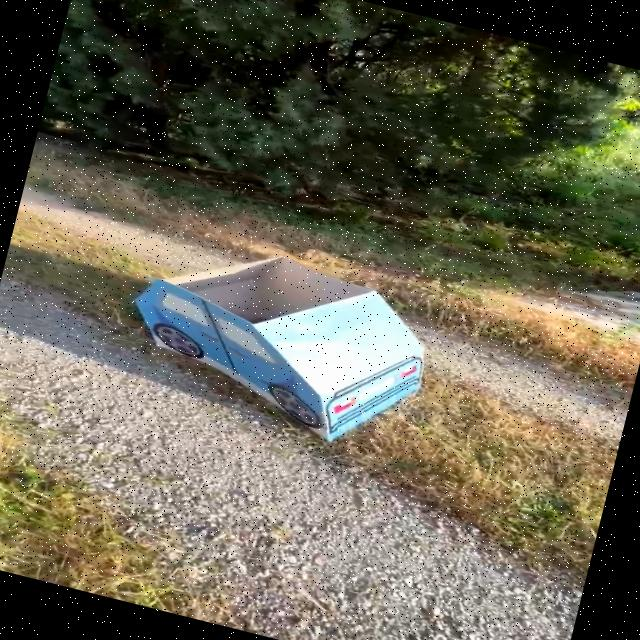blue_car: (91, 213, 471, 478)
